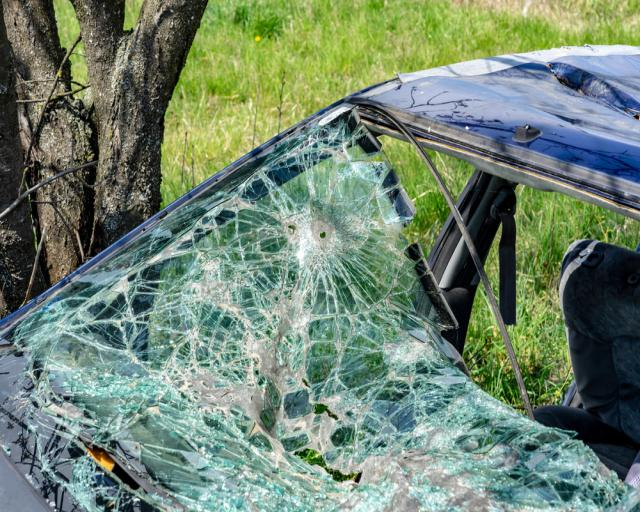dent: (452, 60, 640, 149)
glass shatter: (0, 100, 640, 512)
